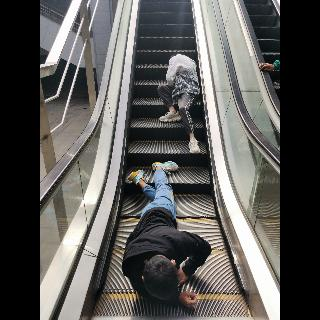anomaly: (124, 156, 212, 308), (157, 49, 207, 155)
